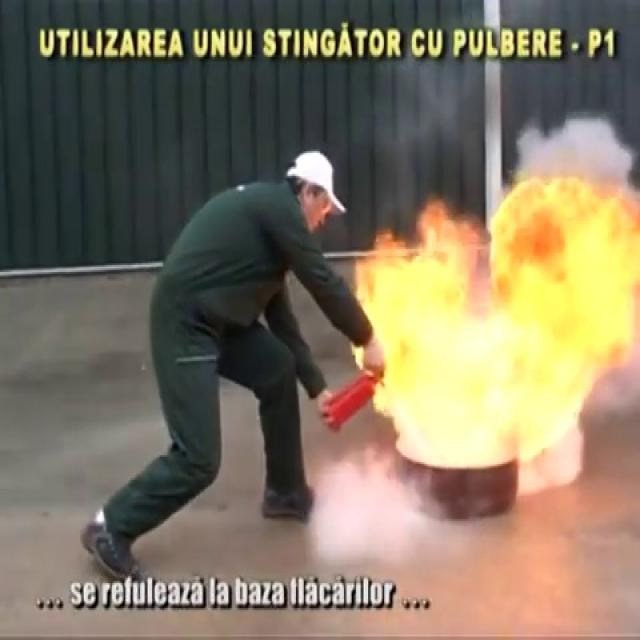Fire: (348, 162, 640, 484)
